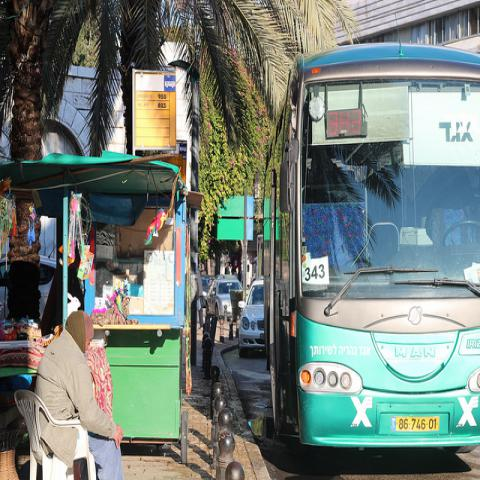bus: (257, 12, 479, 455)
car: (237, 279, 265, 360), (205, 274, 243, 318), (202, 279, 214, 307)
